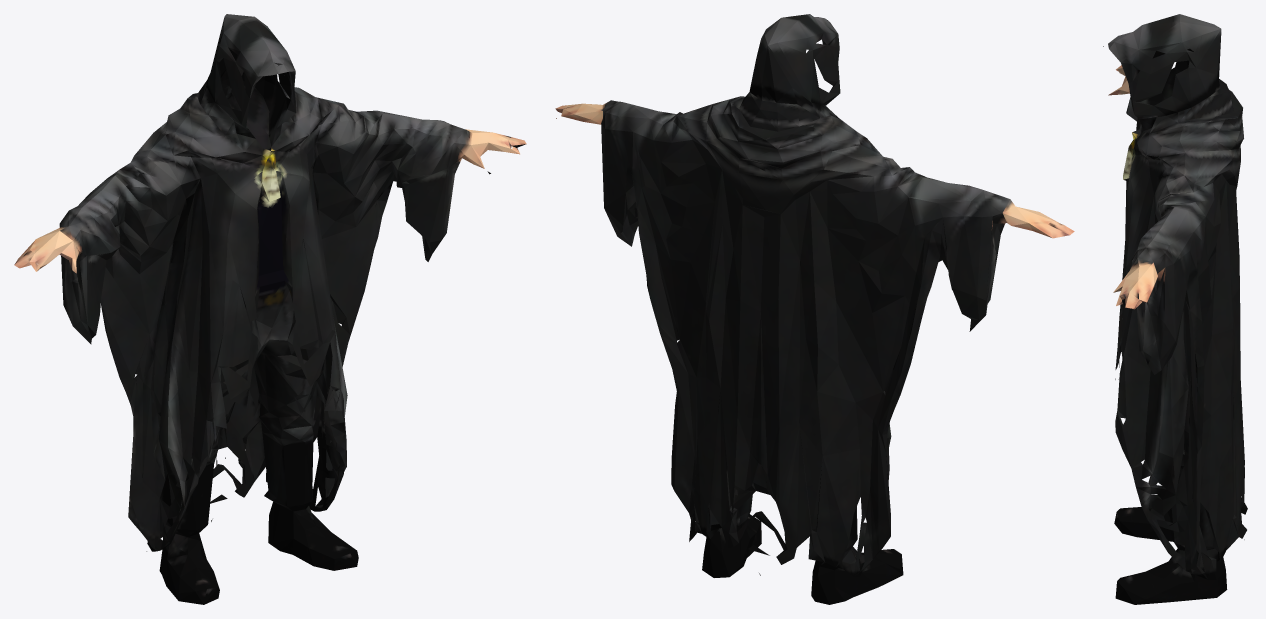
Rendered from necromancer.gltf.
3 views of the same model, side by side, from view 1: azimuth 30°, elevation 25°; view 2: azimuth 150°, elevation 25°; view 3: azimuth 270°, elevation 25° (orthographic).
Parts seen in each view (by area): view 1: necromancer; view 2: necromancer; view 3: necromancer.
Boxes of the visible parts, x1,y1,x2,y2 form: necromancer: (14, 14, 526, 604); necromancer: (555, 14, 1074, 604); necromancer: (1103, 14, 1247, 604).
Bounding box in the file's own units: 0.9736 × 1 × 0.2466.
Materials: 1 (1 with a texture image).
